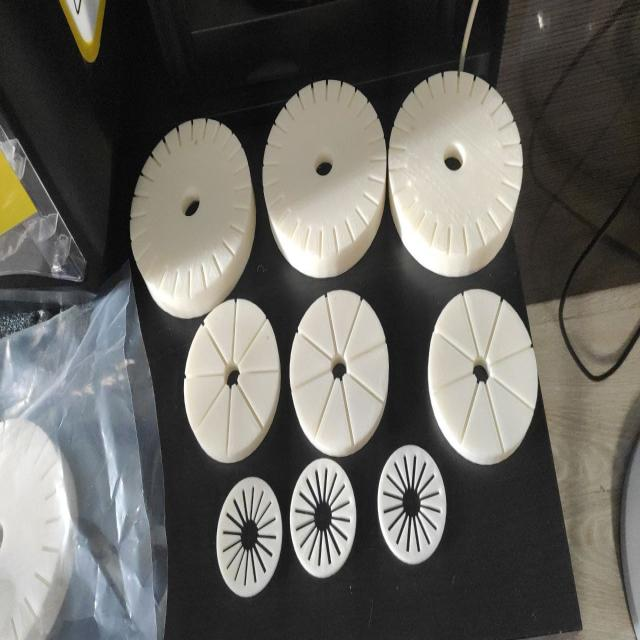Without deffect: (124, 68, 544, 597)
